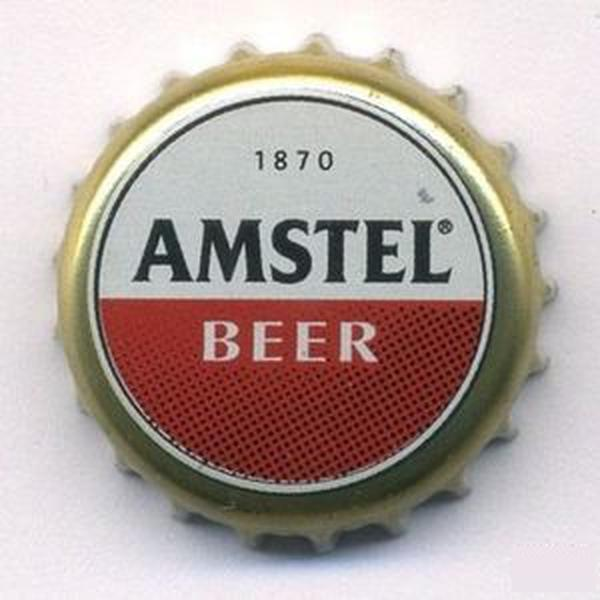amstel: (47, 27, 562, 565)
